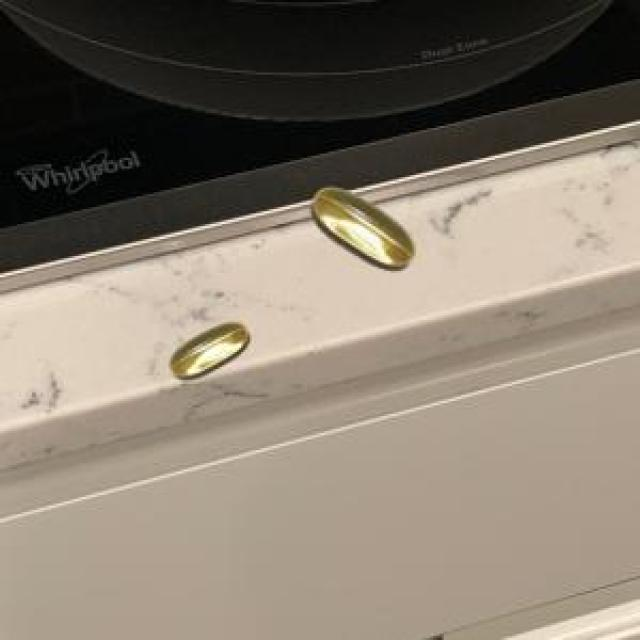Fish_Oil: (304, 179, 426, 282), (160, 313, 254, 392)
